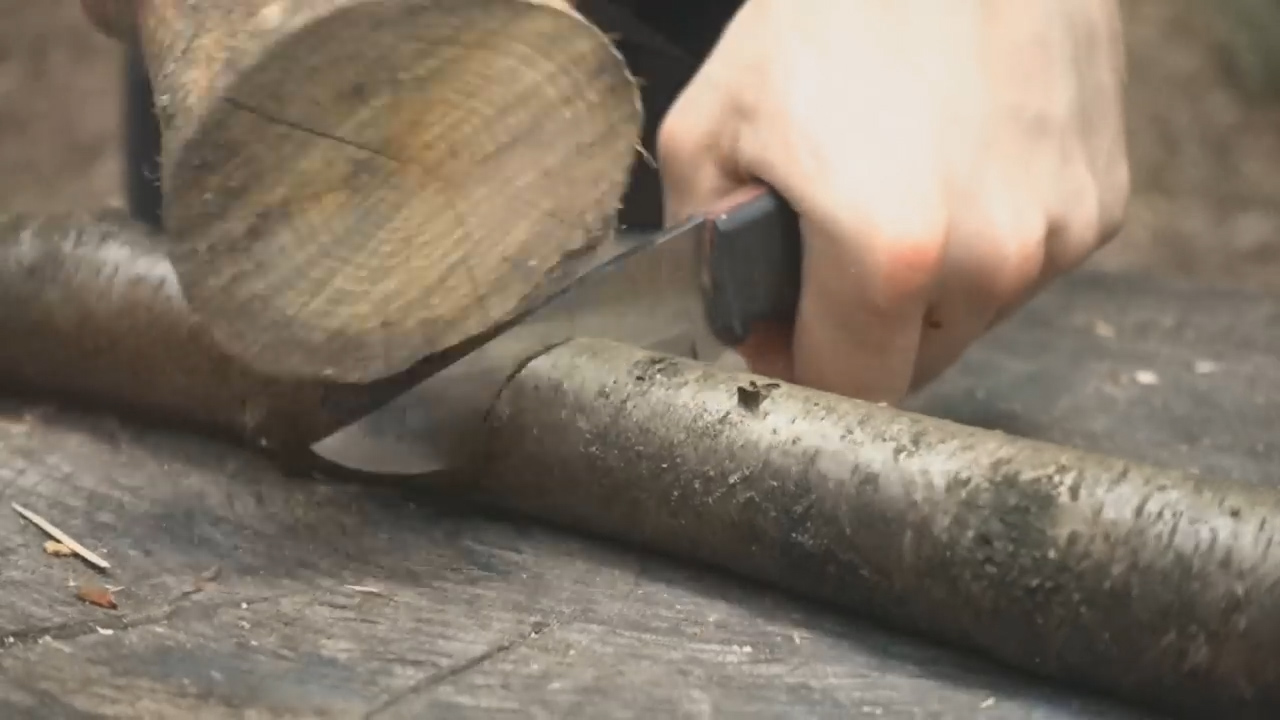knife: (284, 132, 890, 504)
